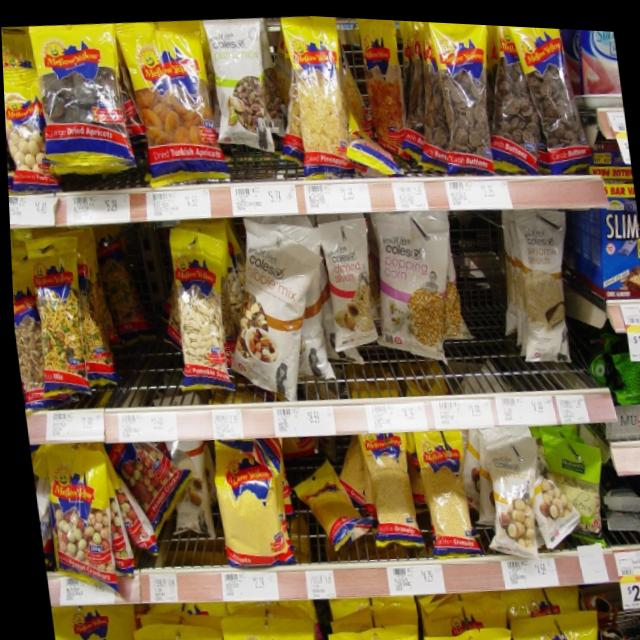q88: (33, 436, 120, 595)
